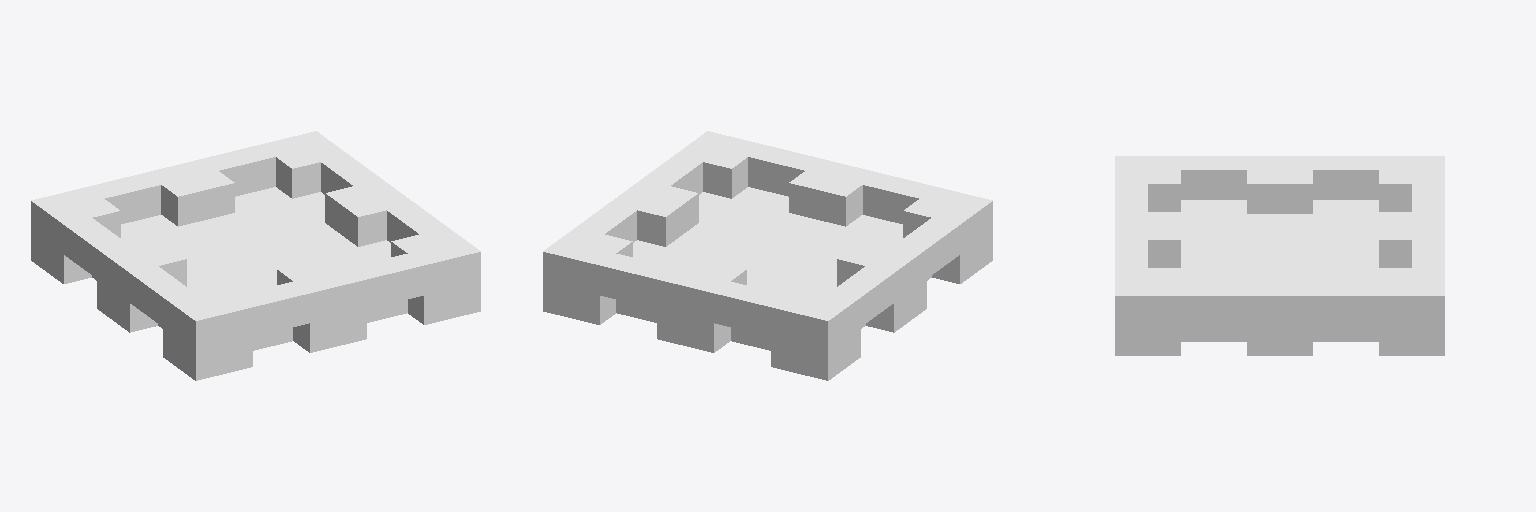
Rendered from crate_reinforced_lid.obj.
The picture shows the model from 3 angles: view 1: azimuth 30°, elevation 25°; view 2: azimuth 150°, elevation 25°; view 3: azimuth 270°, elevation 25°; orthographic projection.
Size of the model in its own units: 10 by 2 by 10.